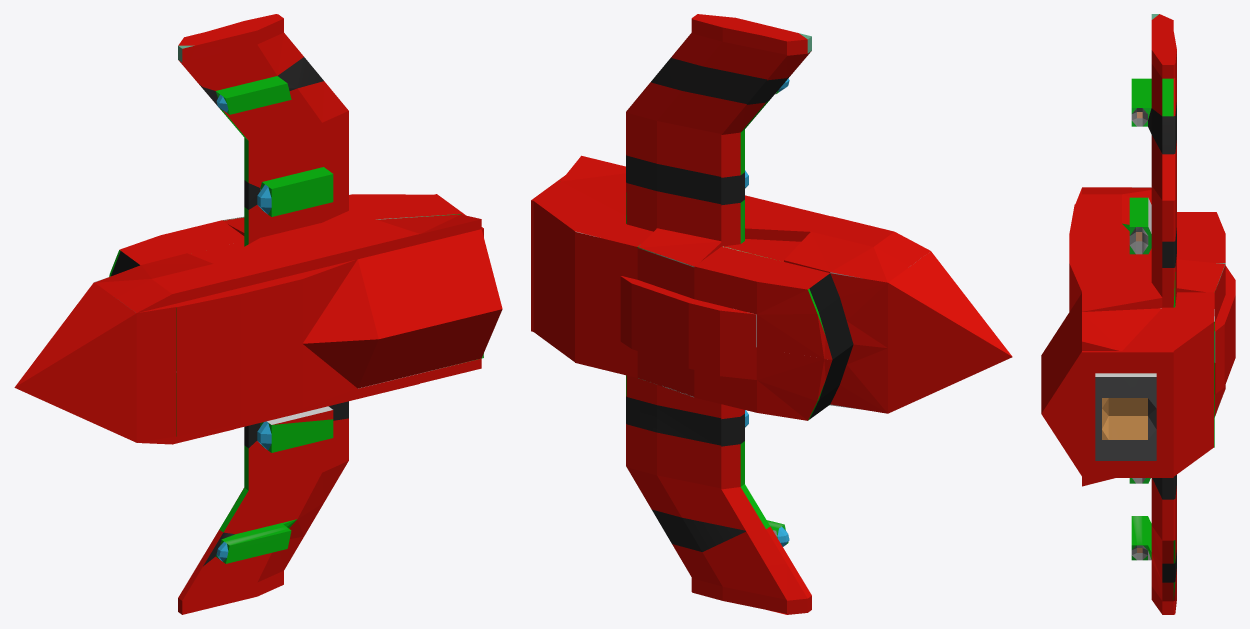
Rendered from Enemy Ship.dae.
3 views of the same model, side by side, from view 1: azimuth 30°, elevation 25°; view 2: azimuth 150°, elevation 25°; view 3: azimuth 270°, elevation 25° (orthographic). The views are drawn at different scales.
Parts seen in each view (by area): view 1: Cube; view 2: Cube; view 3: Cube.
Boxes of the visible parts, x1,y1,x2,y2 form: Cube: [14, 14, 502, 614]; Cube: [531, 14, 1012, 614]; Cube: [1041, 14, 1235, 614].
Bounding box in the file's own units: 7.39 × 2.8 × 8.75.
